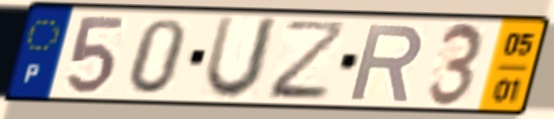0: (125, 16, 187, 96)
3: (424, 19, 487, 110)
5: (60, 14, 132, 96)
R: (347, 21, 426, 104)
U: (199, 13, 283, 103)
Z: (267, 19, 351, 103)
